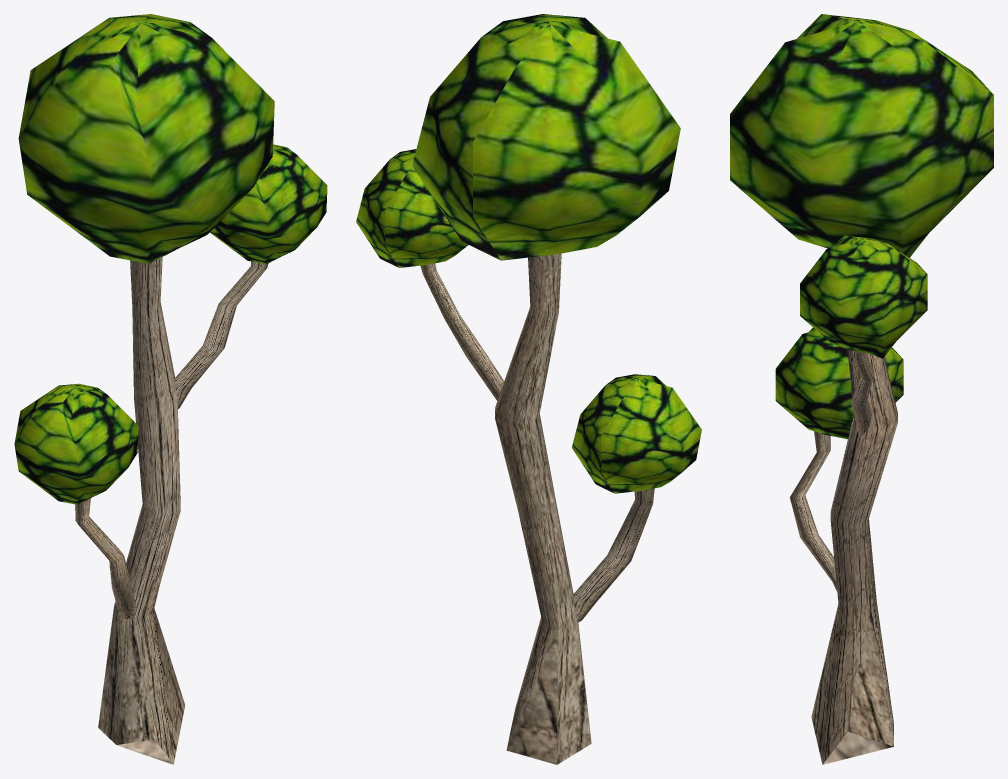
File: tree3.FBX
3 views of the same model, side by side, from view 1: azimuth 30°, elevation 25°; view 2: azimuth 150°, elevation 25°; view 3: azimuth 270°, elevation 25° (orthographic).
Visible parts, largest first — view 1: Cylinder001; view 2: Cylinder001; view 3: Cylinder001.
Boxes of the visible parts, x1,y1,x2,y2 form: Cylinder001: (14, 14, 327, 764); Cylinder001: (356, 14, 701, 764); Cylinder001: (730, 14, 993, 764).
Size of the model in its own units: 131 by 299 by 97.03.
